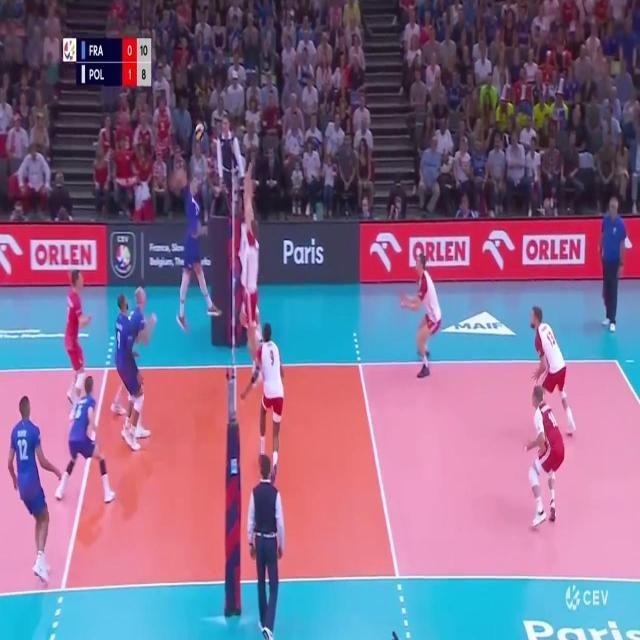volleyball: (195, 124, 205, 142)
